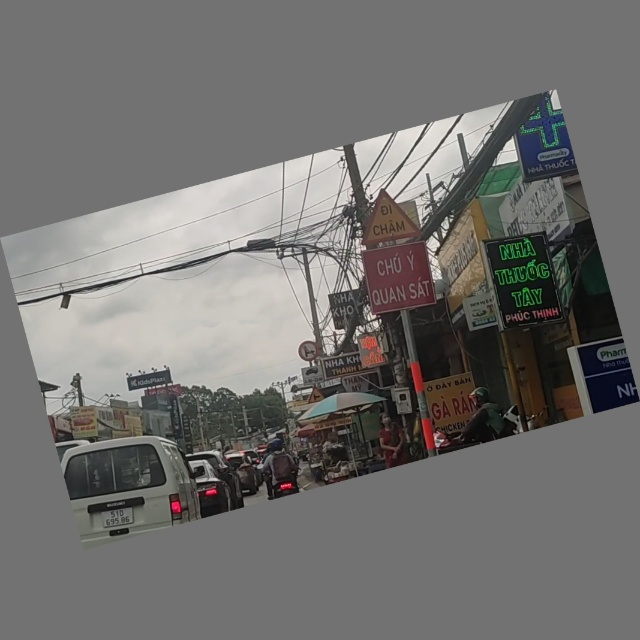P.139: (294, 339, 321, 366)
S.505a*Xe tai: (300, 365, 325, 388)
W.205b: (304, 384, 330, 408)
W.245a: (347, 179, 429, 253)
